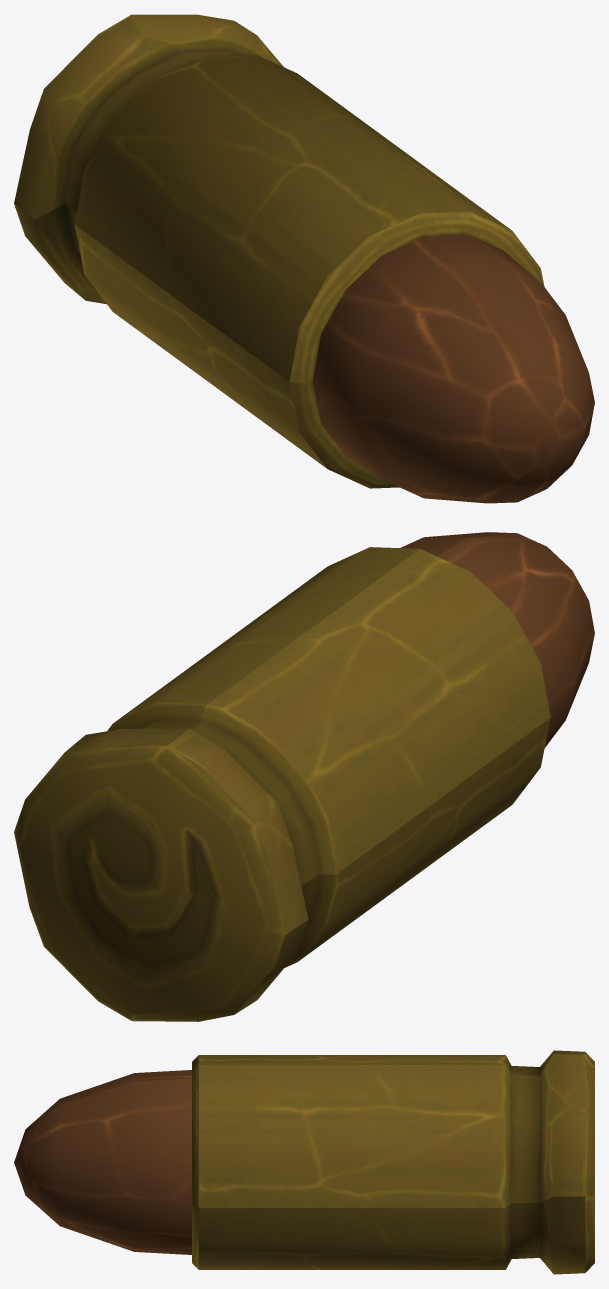
Rendered from Bullet.fbx.
3 renders of one model, top to bottom at view 1: azimuth 30°, elevation 25°; view 2: azimuth 150°, elevation 25°; view 3: azimuth 270°, elevation 25°, orthographic. The views are drawn at different scales.
Parts seen in each view (by area): view 1: node_id31; view 2: node_id31; view 3: node_id31.
Part boxes in pixels (x1=…): node_id31: x1=14, y1=14, x2=594, y2=503; node_id31: x1=14, y1=532, x2=594, y2=1021; node_id31: x1=14, y1=1050, x2=594, y2=1274.
Bounding box in the file's own units: 0.512 × 0.512 × 1.32.
Materials: 1 (1 with a texture image).
